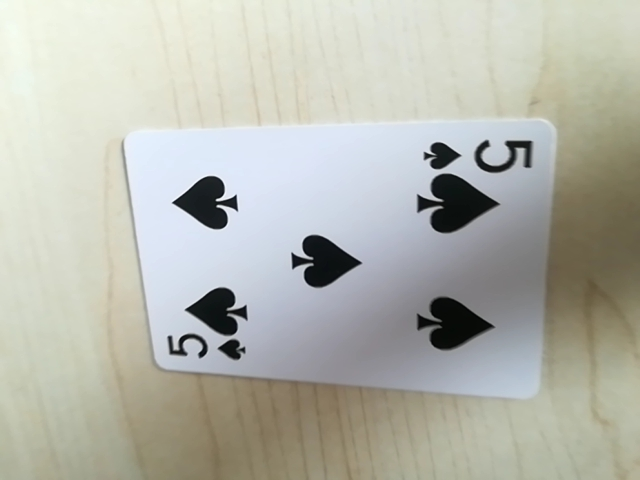ht 5: (419, 129, 539, 178), (161, 326, 251, 369)
